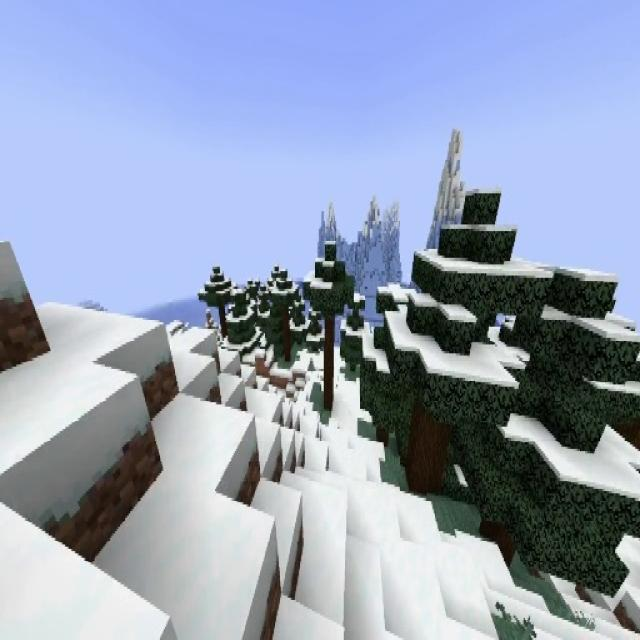spruce: (384, 273, 488, 504), (306, 238, 354, 415), (198, 266, 240, 342), (271, 269, 297, 361), (339, 292, 368, 374)
spruce_log: (407, 410, 451, 494), (480, 524, 518, 568), (324, 314, 334, 412), (284, 306, 290, 362), (219, 305, 225, 337), (377, 428, 388, 445)
